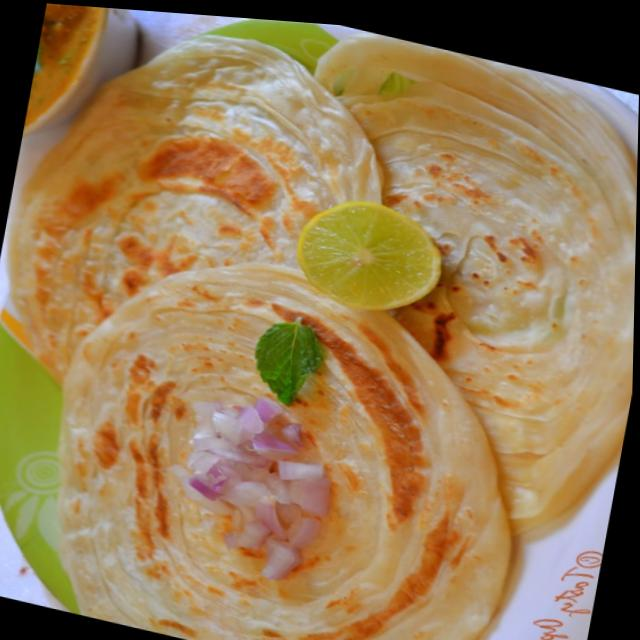PAROTTA: (2, 31, 637, 640)
